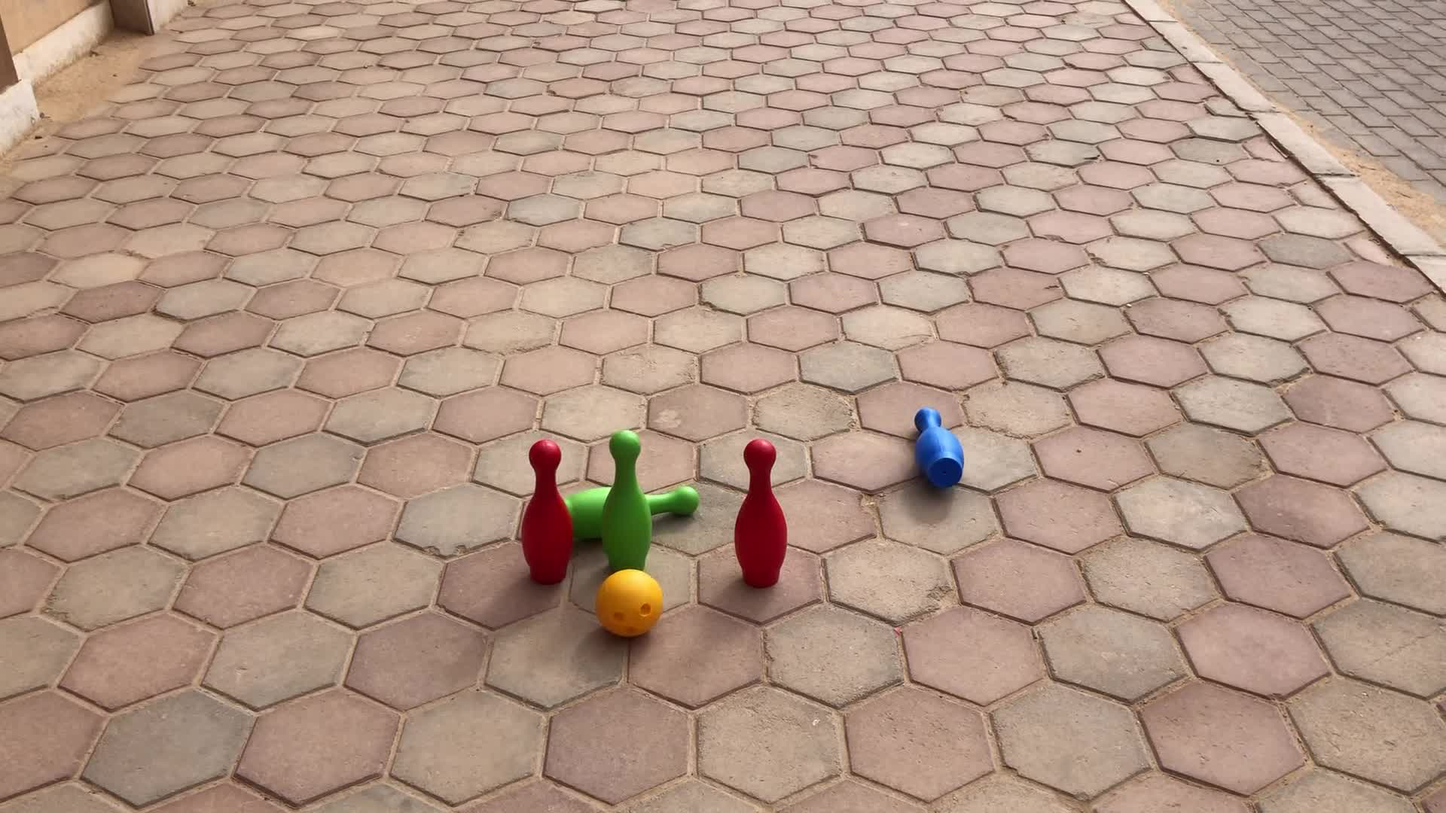pin: (735, 437, 787, 586), (521, 439, 573, 585), (603, 431, 652, 571), (914, 409, 964, 489), (564, 486, 609, 543)
